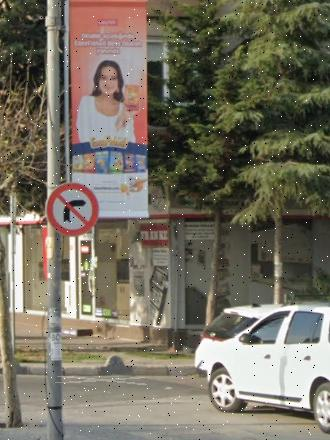rightturnsareforbidden: (49, 181, 99, 233)
